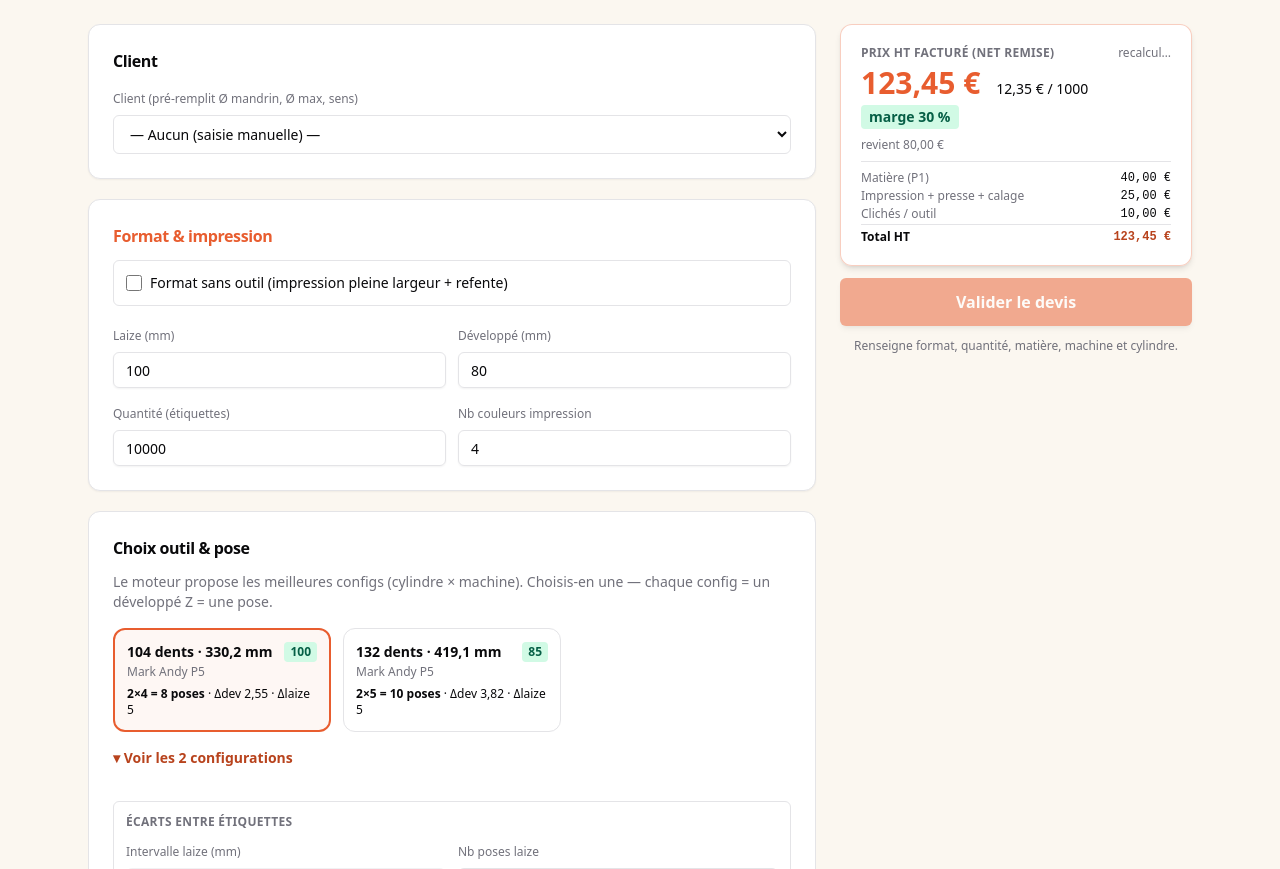
Test: DevisPageUnique — page devis réactive › Section 2 : cartes configs (top recommandé auto-sélectionné) + table dépliable + écarts
The width and height of the screenshot is (1280, 869).
// Sélection d'une autre config.
Click the button with test id "config-card-12" at (452,680), box [343,628,561,732]
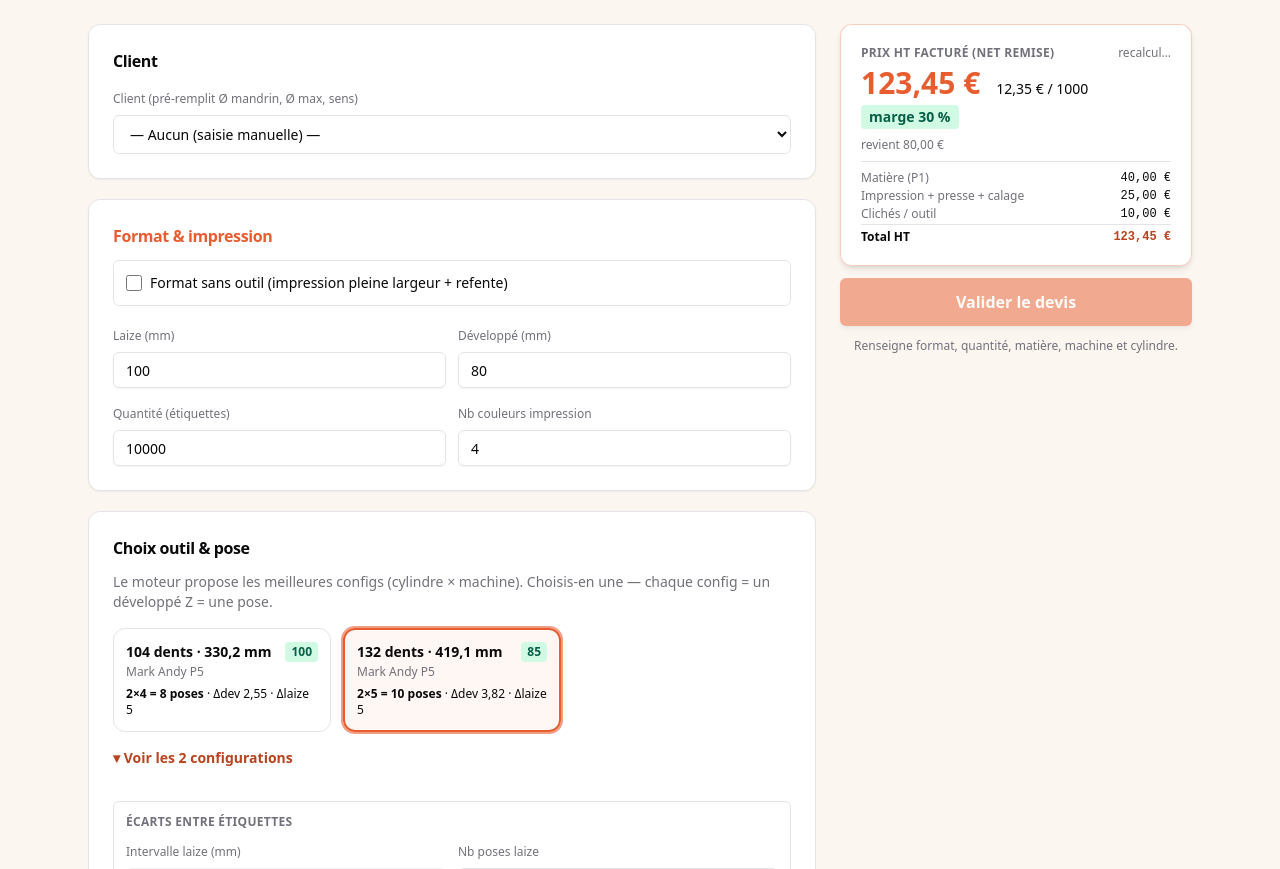
Expected: the button with test id "config-card-12" is pressed, [343,628,561,732]
Expected: the button with test id "config-card-11" is not pressed, [113,628,331,732]
Click the button with test id "toggle-configs" at (203,758), box [113,748,293,768]
(page scrolled)
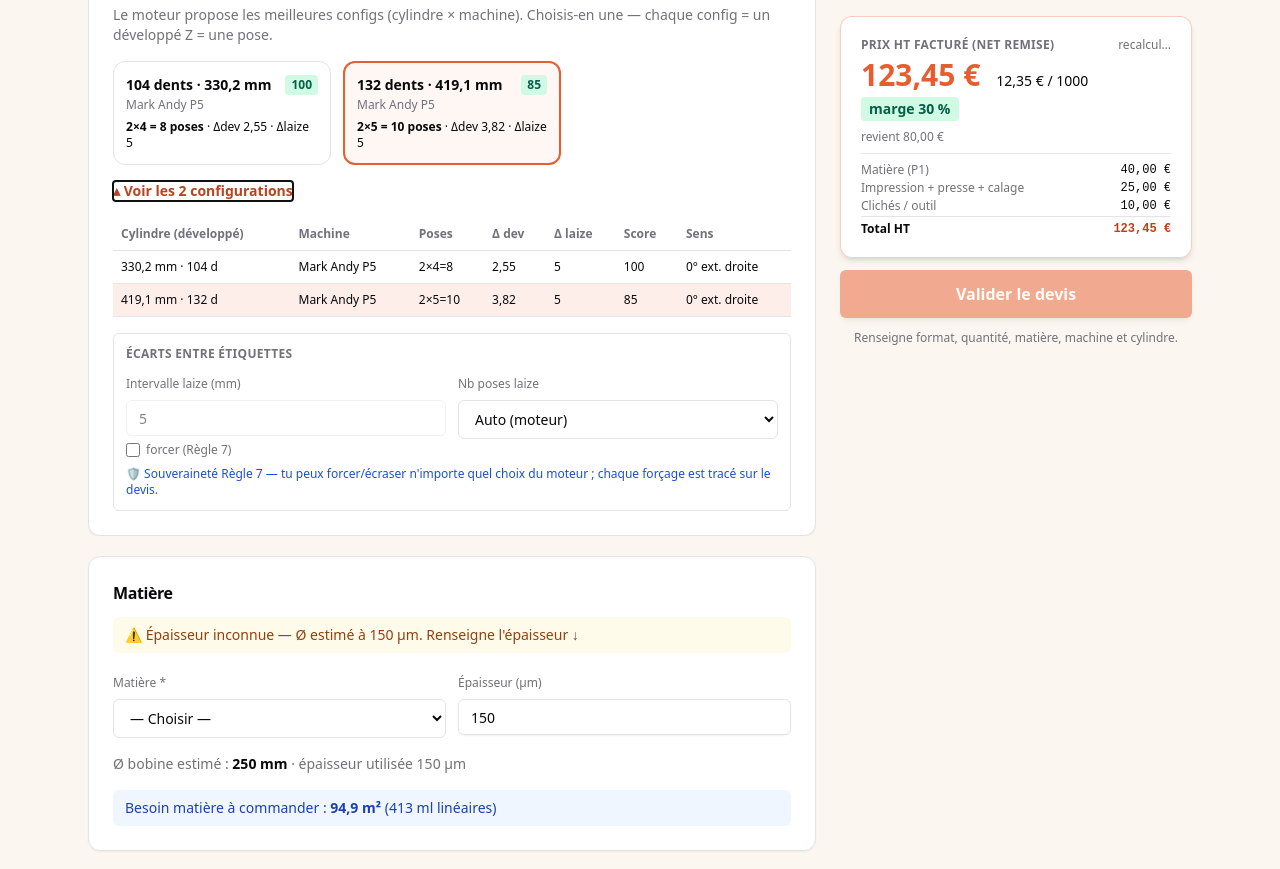
Expected: the number field with test id "ec-intervalle-laize" is disabled, [126,400,446,436]
Click the checkbox with test id "ec-force-laize" at (133,450), box [126,443,140,457]
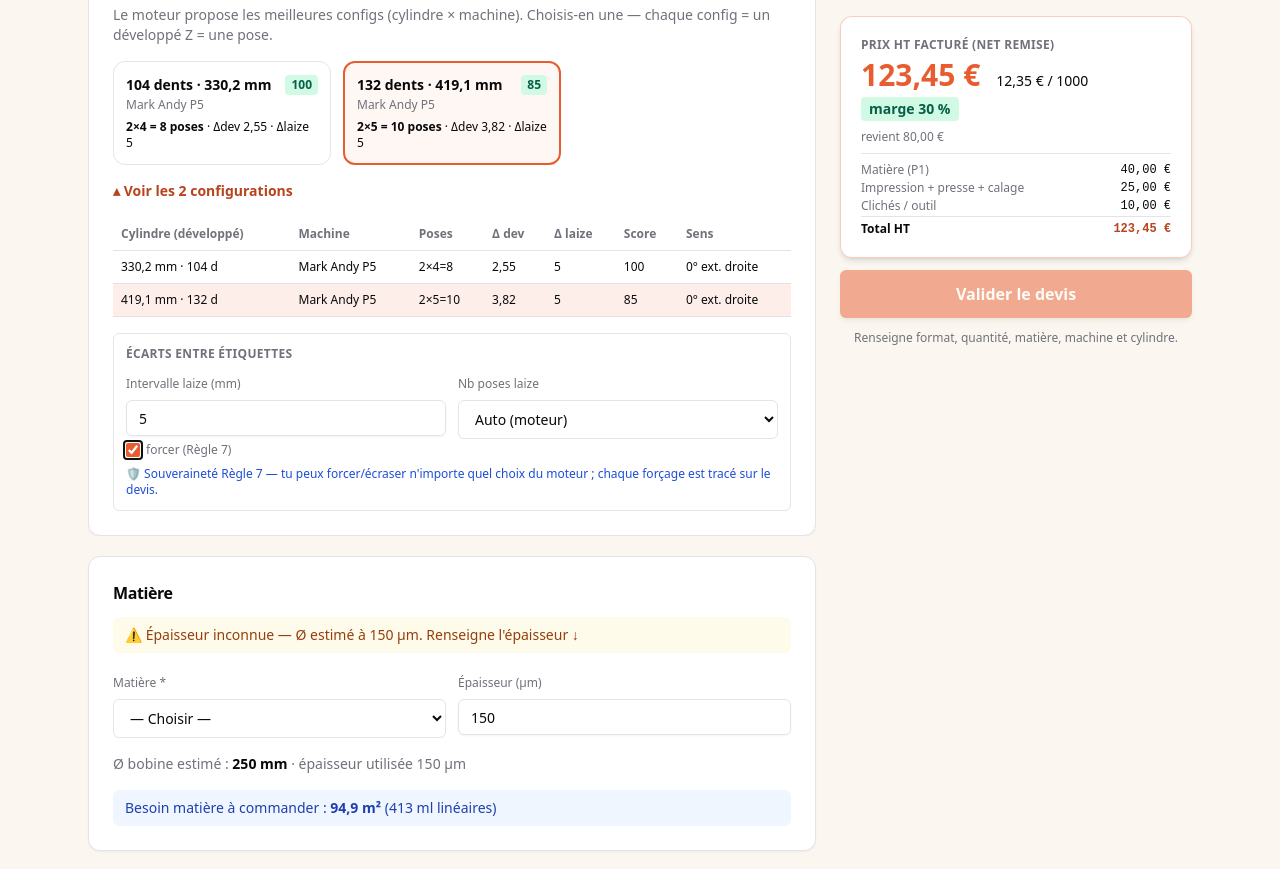
Expected: the number field with test id "ec-intervalle-laize" is enabled, [126,400,446,436]
